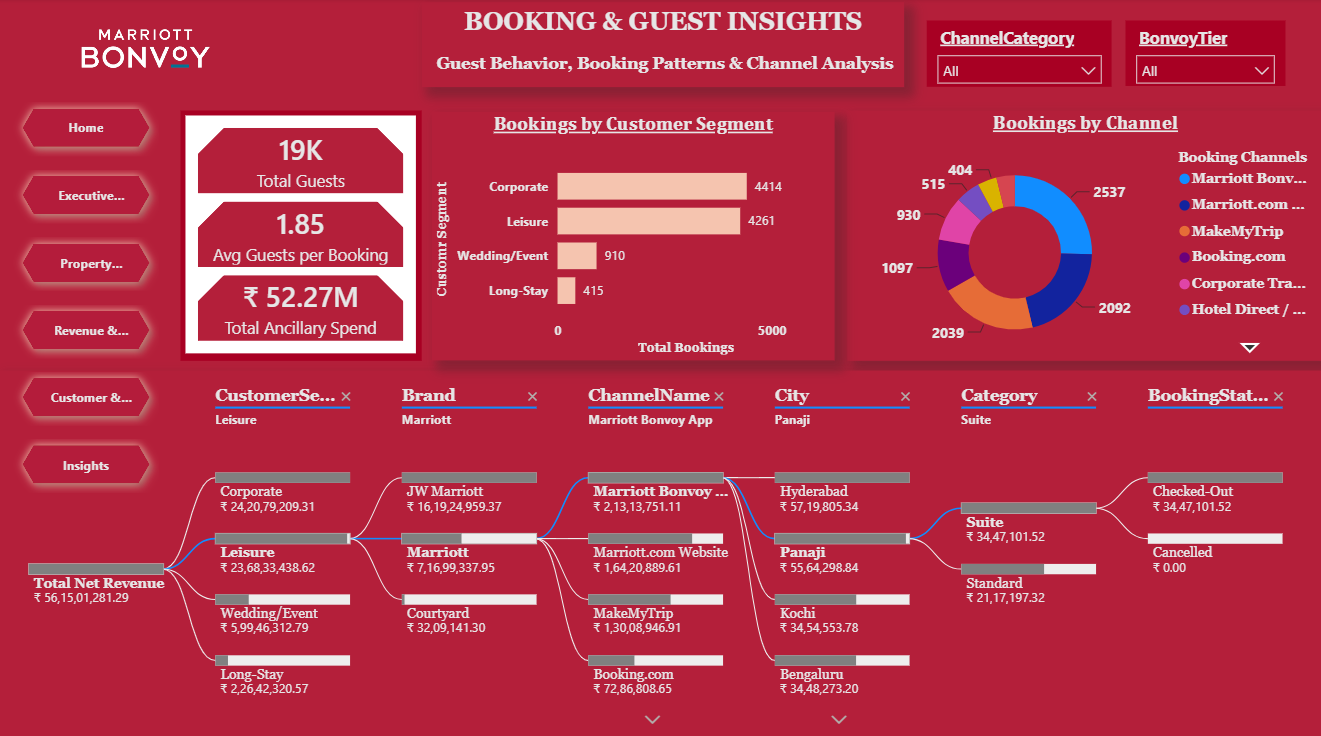

Layout of this report page (visuals, bound fields, positions):
{"tool":"powerbi","page":{"name":"Booking & Guest Insights","canvas":[1280,720],"ordinal":3},"visuals":[{"type":"textbox","box":[409,3.6,465.7,82],"z":0},{"type":"cardVisual","fields":{"Data":["_Measures.Total Guests","_Measures.Avg Guests per Booking","_Measures.Total Ancillary Spend"]},"box":[176.2,108.8,232.5,241.2],"z":1000},{"type":"donutChart","title":"Bookings by Channel","fields":{"Category":["Dim_BookingChannels.ChannelName"],"Y":["_Measures.Total Bookings"]},"box":[819.2,108.6,460.9,241.3],"z":2000},{"type":"decompositionTreeVisual","fields":{"ExplainBy":["Dim_Customers.CustomerSegment","Dim_Properties.Brand","Dim_BookingChannels.ChannelName","Dim_Properties.City","Dim_RoomTypes.Category","Fact_Bookings.BookingStatus"],"Analyze":["_Measures.Total Net Revenue"]},"box":[0,359.5,1280,360.7],"z":3000},{"type":"clusteredBarChart","title":"Bookings by Customer Segment","fields":{"Category":["Dim_Customers.CustomerSegment"],"Y":["_Measures.Total Bookings"]},"box":[418.6,109.8,388.9,239.7],"z":4000},{"type":"slicer","fields":{"Values":["Dim_BookingChannels.ChannelCategory"]},"box":[896.4,21.7,178.6,63.9],"z":5000},{"type":"slicer","fields":{"Values":["Dim_Customers.BonvoyTier"]},"box":[1088.3,22,154.1,63.6],"z":6000},{"type":"pageNavigator","box":[15,97.5,141.2,385],"z":7000},{"type":"image","box":[37.5,0,210,97.5],"z":8000}]}

Visuals, with their boxes in screenshot pixels (x1, y1, x2, y2), scaled from the page's 1280x720 canvas onto the 1321x736 screenshot:
textbox: bbox=[422, 4, 903, 88]
cardVisual - _Measures.Total Guests x _Measures.Avg Guests per Booking: bbox=[182, 111, 422, 358]
"Bookings by Channel" donutChart: bbox=[845, 111, 1320, 358]
decompositionTreeVisual - Dim_Customers.CustomerSegment x Dim_Properties.Brand: bbox=[0, 367, 1320, 735]
"Bookings by Customer Segment" clusteredBarChart: bbox=[432, 112, 833, 357]
slicer - Dim_BookingChannels.ChannelCategory: bbox=[925, 22, 1109, 88]
slicer - Dim_Customers.BonvoyTier: bbox=[1123, 22, 1282, 88]
pageNavigator: bbox=[15, 100, 161, 493]
image: bbox=[39, 0, 255, 100]
